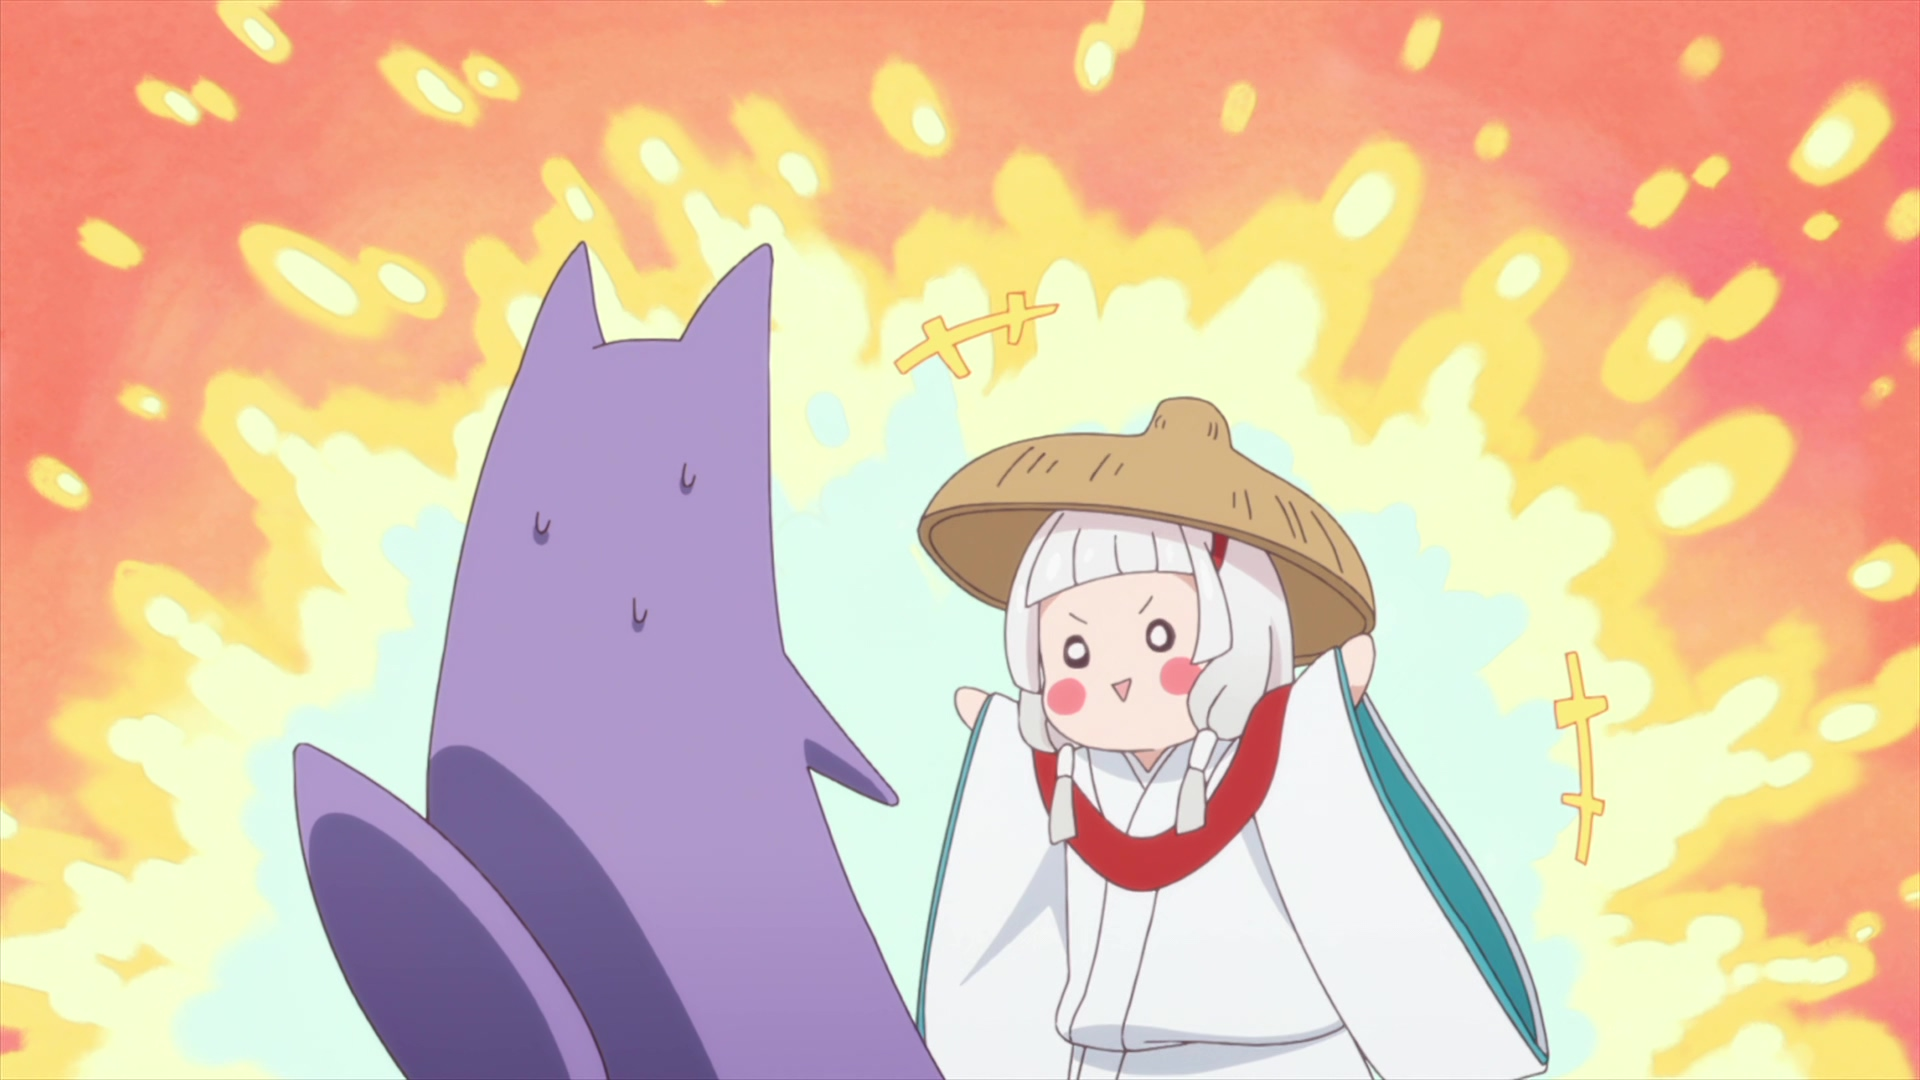其他: (916, 397, 1552, 1080)
皋: (295, 241, 939, 1080)
